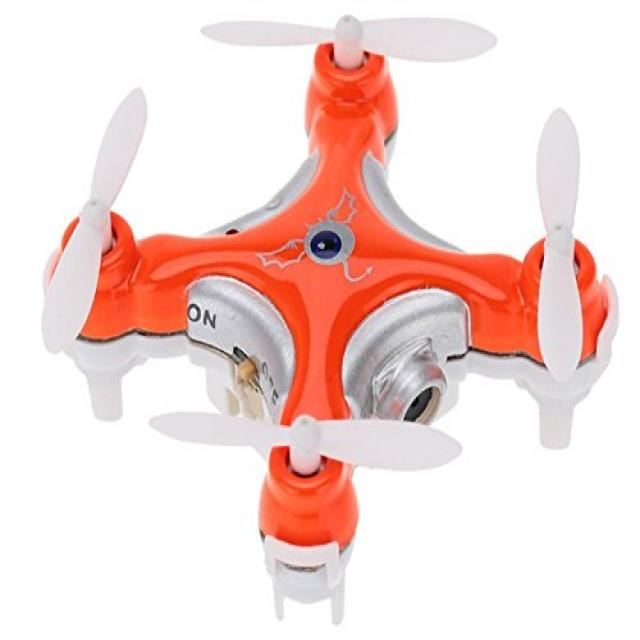drones: (33, 4, 626, 636)
